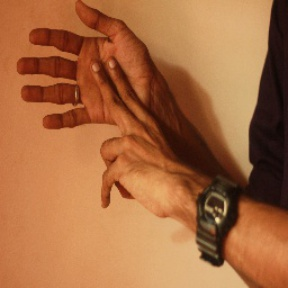N: (20, 1, 159, 194)
